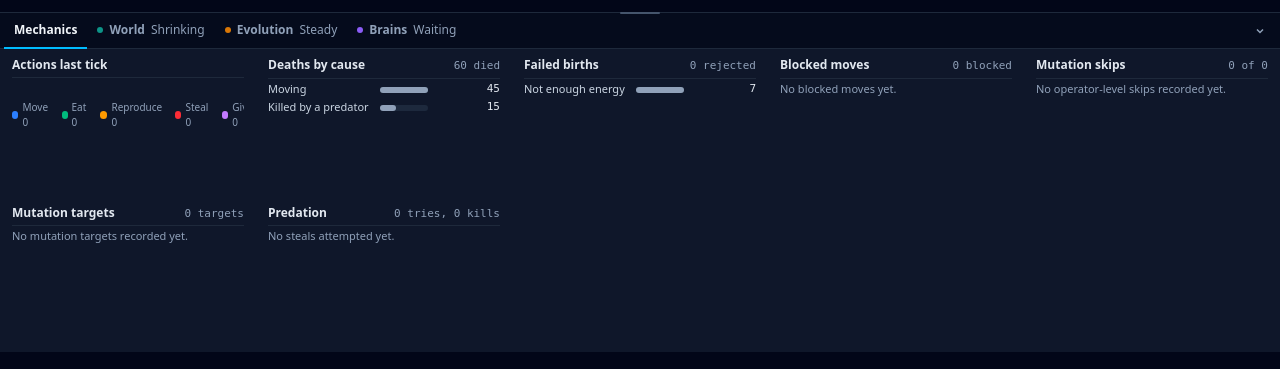
StatsPanel › scrubs every chart in a band back to an earlier tick, and returns to now on blur
The width and height of the screenshot is (1280, 369).
Click the tab "World Shrinking" at coordinates (151, 31), box 87,13 -> 215,49
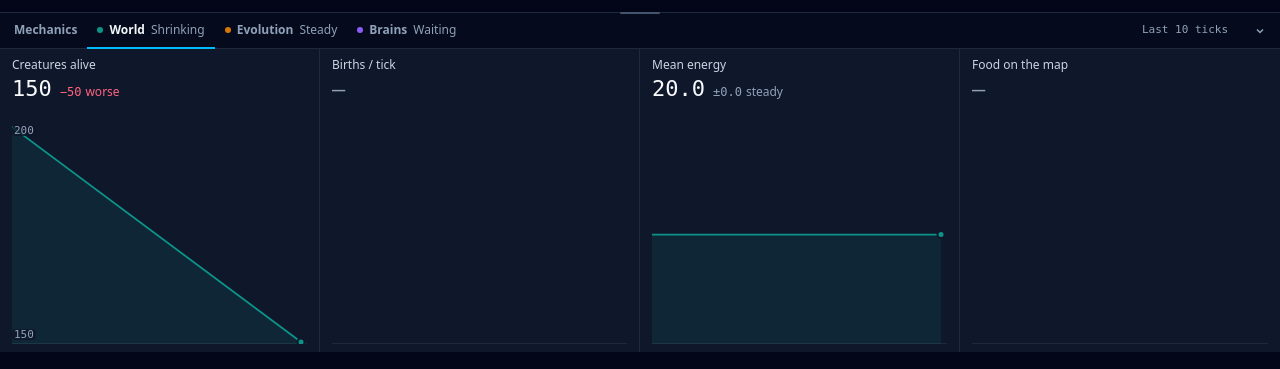
Set the slider named "Scrub through time" to "0" at coordinates (1185, 30), box 1142,23 -> 1228,36
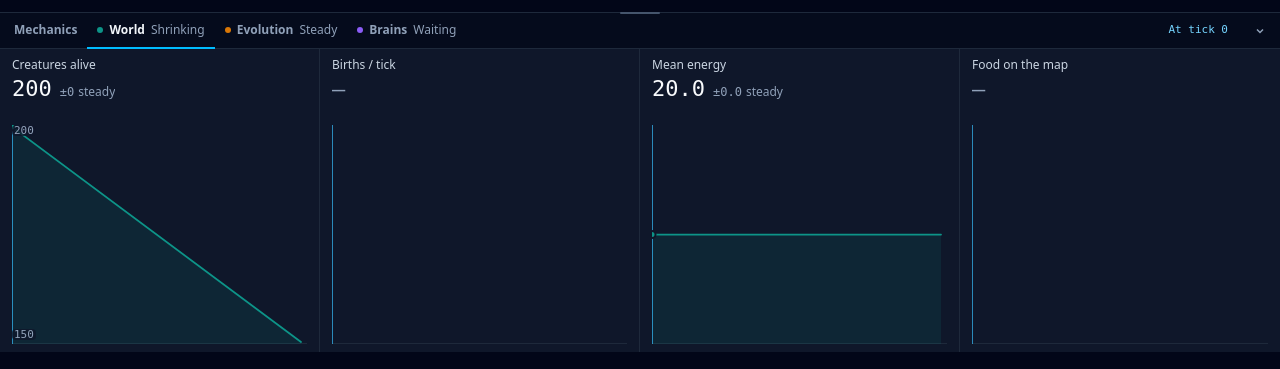
Expected: the text "At tick 0" is shown
Expected: the 1st text with test id "reading-value" reads "200", 12,76 -> 52,101
Leave the slider named "Scrub through time", box 1168,23 -> 1228,36
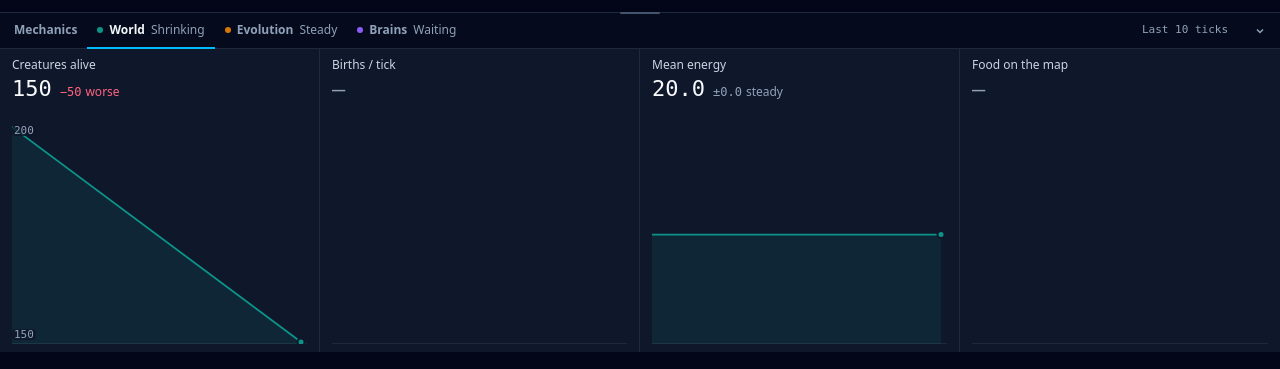
Expected: the text "At tick 0" is gone
